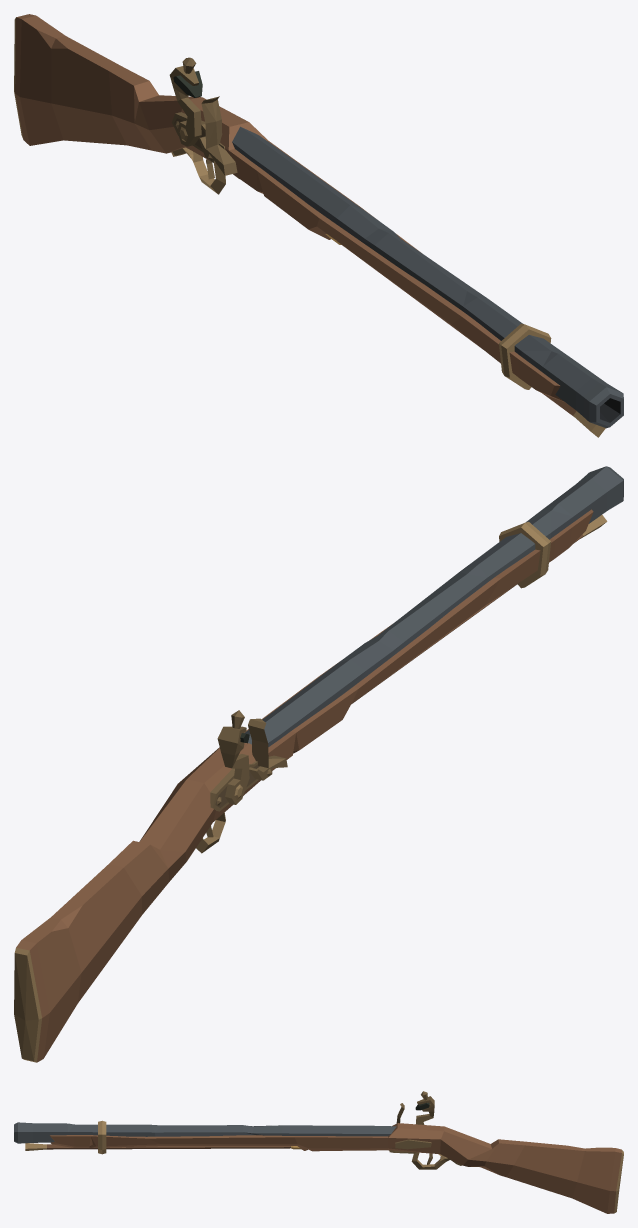
File: SM_Wep_Rifle_01.fbx
3 views of the same model, one above another, from view 1: azimuth 30°, elevation 25°; view 2: azimuth 150°, elevation 25°; view 3: azimuth 270°, elevation 25° (orthographic). The views are drawn at different scales.
Parts seen in each view (by area): view 1: SM_Wep_Rifle_01, SM_Wep_Rifle_Hammer_01, SM_Wep_Rifle_Frizzen_01; view 2: SM_Wep_Rifle_01, SM_Wep_Rifle_Hammer_01, SM_Wep_Rifle_Frizzen_01; view 3: SM_Wep_Rifle_01, SM_Wep_Rifle_Hammer_01.
Boxes of the visible parts, x1=… form: SM_Wep_Rifle_01: x1=14, y1=14, x2=623, y2=437; SM_Wep_Rifle_Hammer_01: x1=169, y1=57, x2=202, y2=146; SM_Wep_Rifle_Frizzen_01: x1=201, y1=96, x2=237, y2=175; SM_Wep_Rifle_01: x1=14, y1=466, x2=623, y2=1062; SM_Wep_Rifle_Hammer_01: x1=217, y1=710, x2=249, y2=804; SM_Wep_Rifle_Frizzen_01: x1=248, y1=718, x2=287, y2=768; SM_Wep_Rifle_01: x1=14, y1=1120, x2=623, y2=1213; SM_Wep_Rifle_Hammer_01: x1=415, y1=1091, x2=434, y2=1124.
Bounding box in the file's own units: 8.94 × 32.46 × 156.
